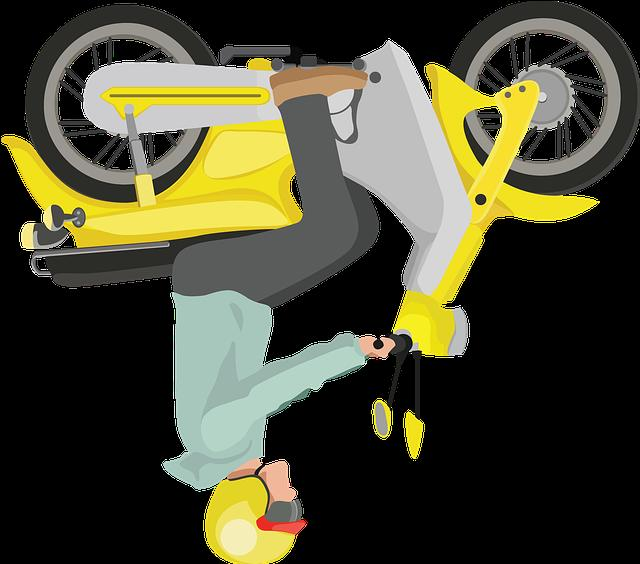Non_Gorille: (0, 2, 617, 544)
